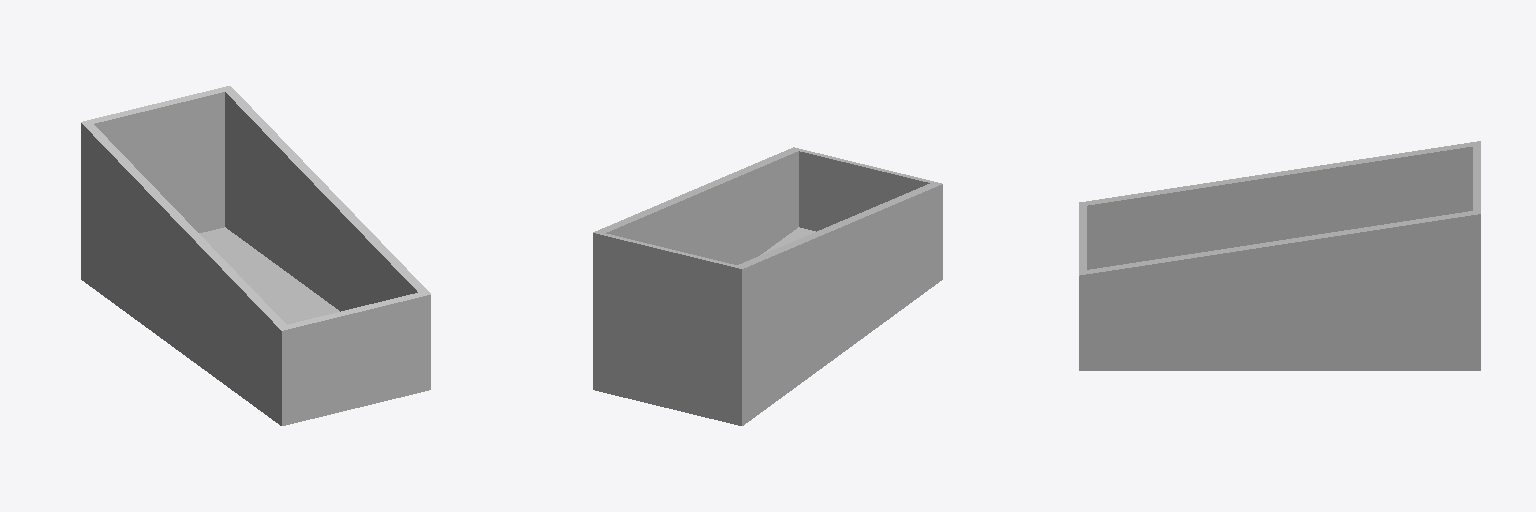
The model's file is PinballBody.obj.
3 renders of one model, left to right at view 1: azimuth 30°, elevation 25°; view 2: azimuth 150°, elevation 25°; view 3: azimuth 270°, elevation 25°, orthographic.
Parts seen in each view (by area): view 1: PinballBody; view 2: PinballBody; view 3: PinballBody.
Boxes of the visible parts, x1=… form: PinballBody: x1=81, y1=86, x2=430, y2=425; PinballBody: x1=593, y1=147, x2=942, y2=425; PinballBody: x1=1079, y1=141, x2=1480, y2=370.
Bounding box in the file's own units: 215 × 216 × 500.